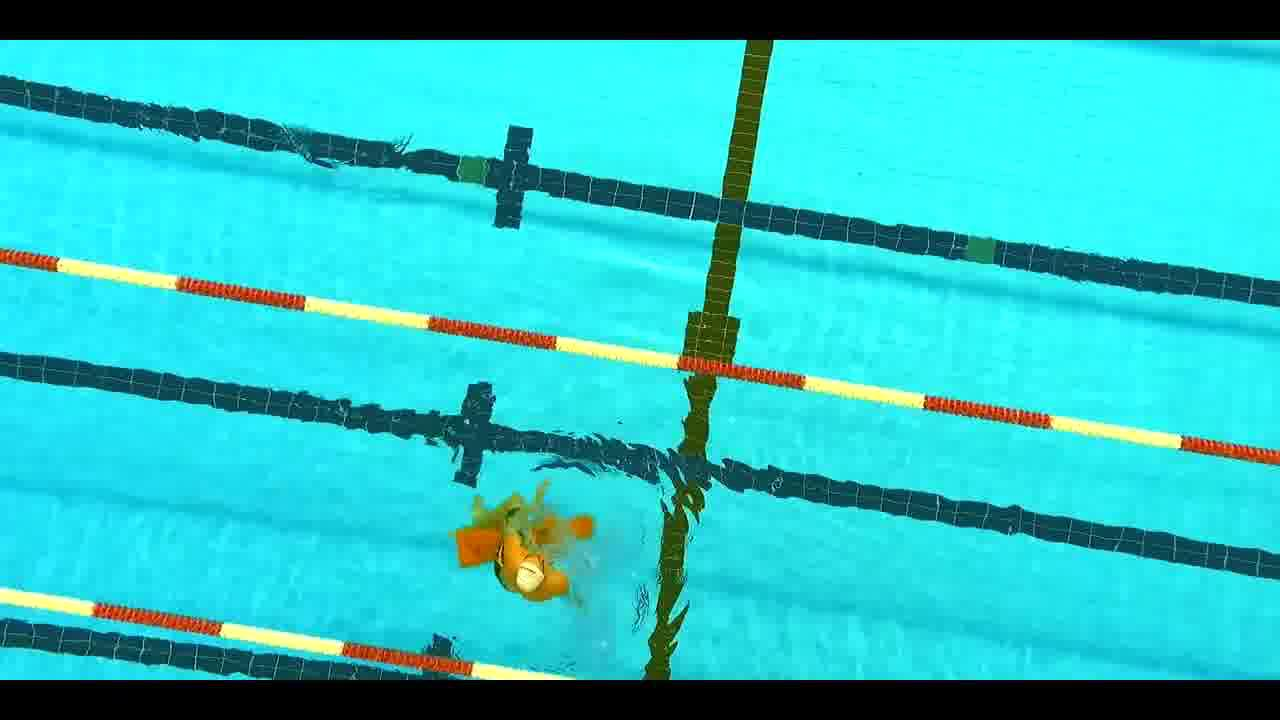swimmer: (464, 517, 582, 599)
